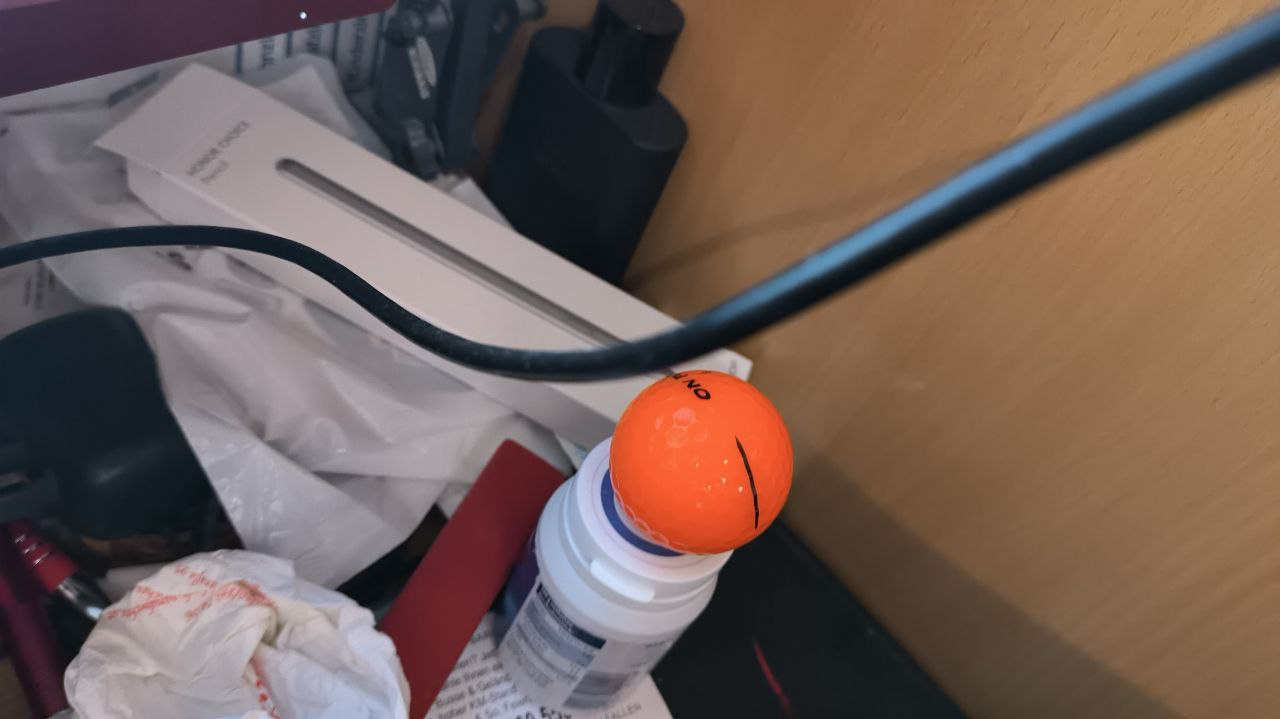orange_ball: (608, 367, 794, 556)
